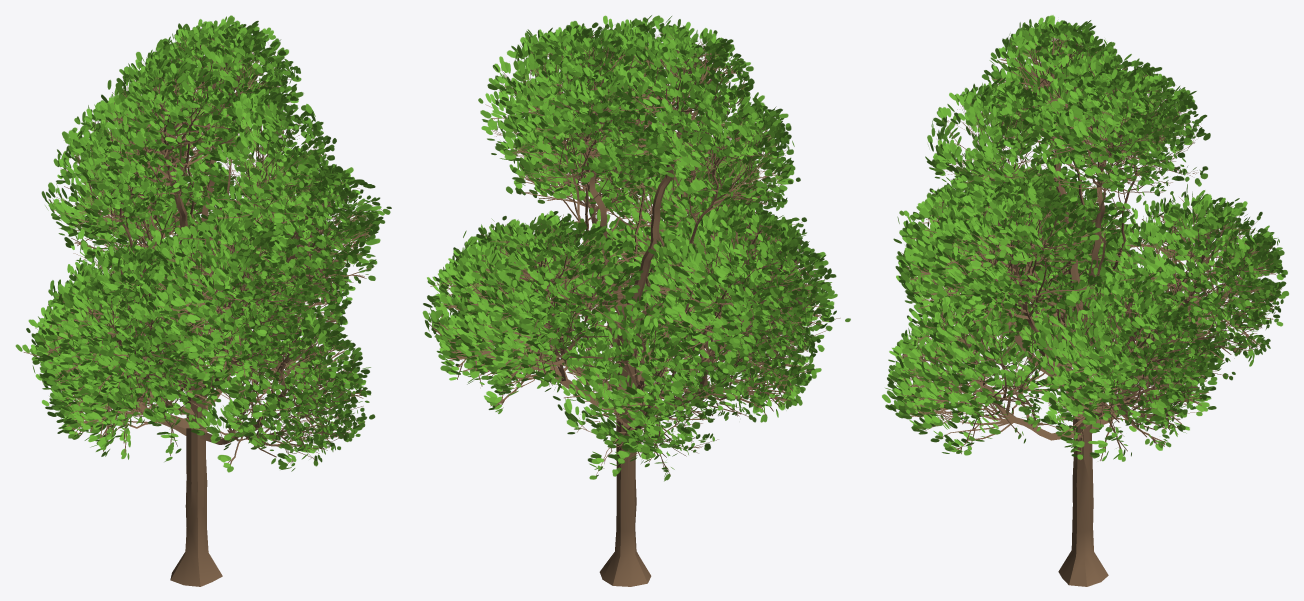
File: leafy.glb
3 renders of one model, left to right at view 1: azimuth 30°, elevation 25°; view 2: azimuth 150°, elevation 25°; view 3: azimuth 270°, elevation 25°, orthographic. The views are drawn at different scales.
Visible parts, largest first — view 1: oak 01_leafes_Mat.001_0, oak 01.001_trunk_Mat.001_0; view 2: oak 01_leafes_Mat.001_0, oak 01.001_trunk_Mat.001_0; view 3: oak 01_leafes_Mat.001_0, oak 01.001_trunk_Mat.001_0.
Boxes of the visible parts, x1,y1,x2,y2 form: oak 01_leafes_Mat.001_0: (15,15,391,472); oak 01.001_trunk_Mat.001_0: (23,32,382,586); oak 01_leafes_Mat.001_0: (422,15,850,481); oak 01.001_trunk_Mat.001_0: (429,30,840,586); oak 01_leafes_Mat.001_0: (882,15,1288,461); oak 01.001_trunk_Mat.001_0: (890,32,1281,586).
Size of the model in its own units: 0.3678 by 0.564 by 0.389.
2 materials, 1 textured.
